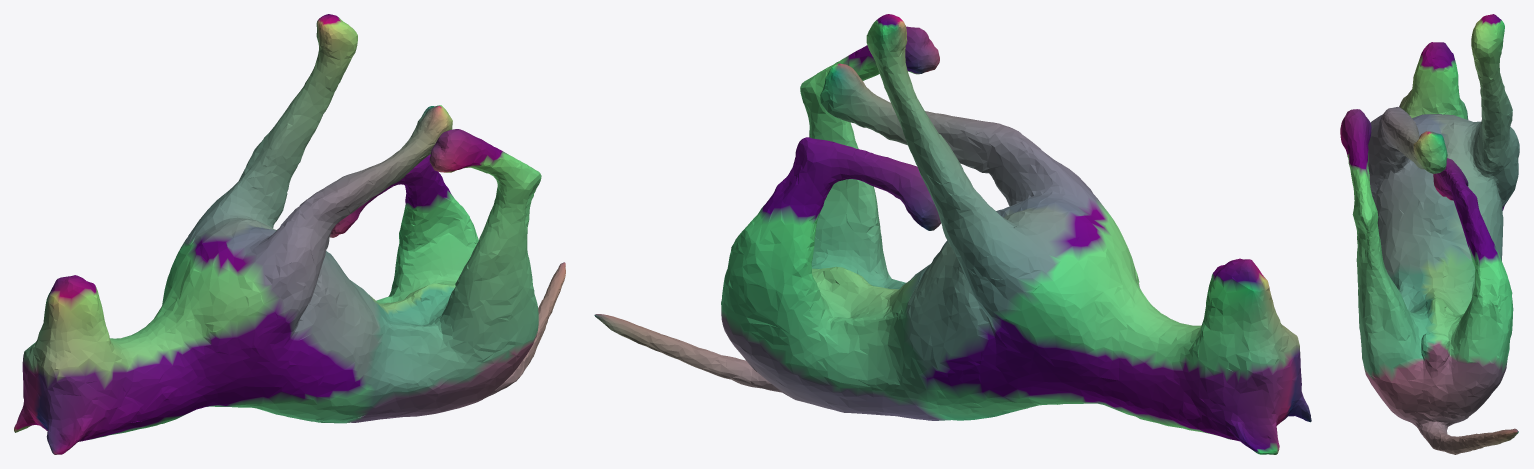
File: dog2-10.off.obj
3 views of the same model, side by side, from view 1: azimuth 30°, elevation 25°; view 2: azimuth 150°, elevation 25°; view 3: azimuth 270°, elevation 25° (orthographic). The views are drawn at different scales.
Bounding box in the file's own units: 1.64 × 1.04 × 0.463.
